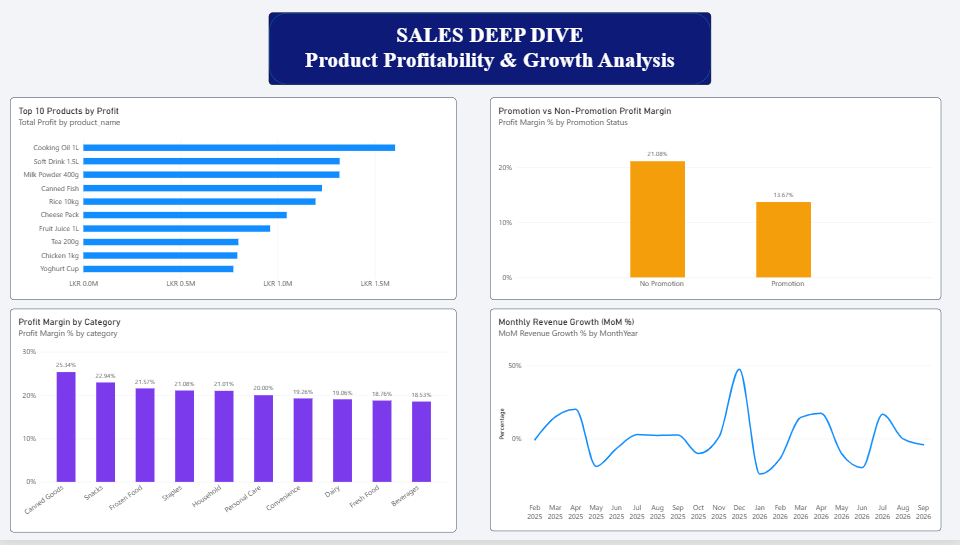

The page's visual inventory and layout, read from the dashboard file:
{"tool":"powerbi","page":{"name":"Sales Deep Dive","canvas":[1920,1080],"ordinal":3},"visuals":[{"type":"shape","box":[538,26,885,145],"z":0},{"type":"textbox","box":[538,44,885,150],"z":1000},{"type":"clusteredBarChart","title":"Top 10 Products by Profit","fields":{"Category":["Sales.product_name"],"Y":["_Measures.Total Profit"]},"box":[20,195,870,405],"z":2000},{"type":"clusteredColumnChart","title":"Profit Margin by Category","fields":{"Category":["Sales.category"],"Y":["_Measures.Profit Margin %"]},"box":[20,617.5,870,447.5],"z":2001},{"type":"clusteredColumnChart","title":"Promotion vs Non-Promotion Profit Margin","fields":{"Category":["Sales.Promotion Status"],"Y":["_Measures.Profit Margin %"]},"box":[980,195,902.5,405],"z":2002},{"type":"lineChart","title":"Monthly Revenue Growth (MoM %)","fields":{"Category":["DimDate.MonthYear"],"Y":["_Measures.MoM Revenue Growth %"]},"box":[980,617.5,902.5,445],"z":2003}]}

Visuals, with their boxes in screenshot pixels (x1, y1, x2, y2), scaled from the page's 1920x1080 canvas onto the 960x545 screenshot:
shape: 269, 13, 712, 86
textbox: 269, 22, 712, 98
"Top 10 Products by Profit" clusteredBarChart: 10, 98, 445, 303
"Profit Margin by Category" clusteredColumnChart: 10, 312, 445, 537
"Promotion vs Non-Promotion Profit Margin" clusteredColumnChart: 490, 98, 941, 303
"Monthly Revenue Growth (MoM %)" lineChart: 490, 312, 941, 536
